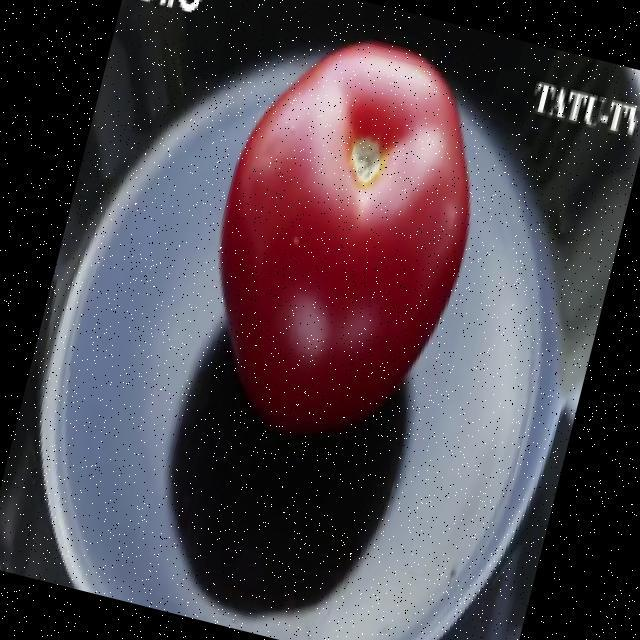tomato: (219, 43, 472, 442)
